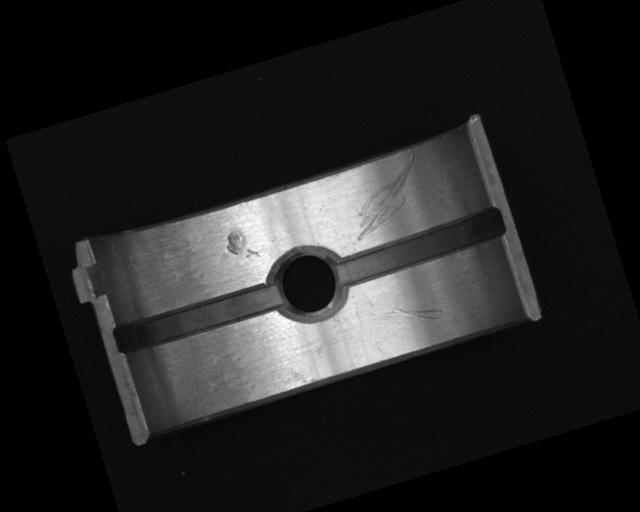bruise: (222, 226, 260, 265)
gap: (330, 205, 507, 289), (112, 278, 285, 357)
hole: (265, 241, 350, 329)
nick: (336, 153, 432, 241), (386, 292, 444, 333)
